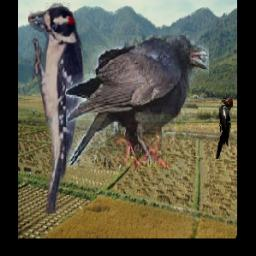Crow: (67, 35, 210, 167)
Woodpecker: (29, 1, 86, 215), (216, 97, 233, 159)
